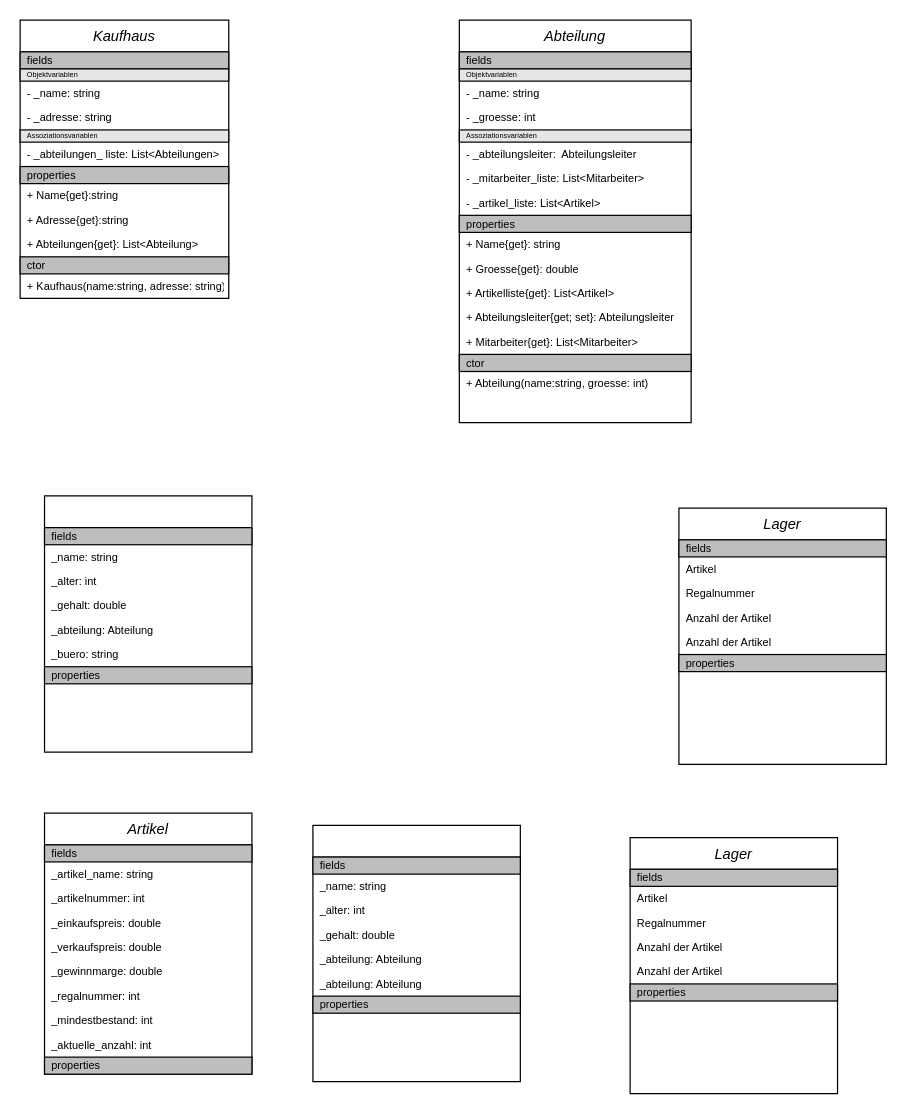
Some shapes in this 906 by 1114 pixel diagram are drawn without their labels. Each missing label, with the box of its shape:
Abteilungsleiter: (43, 495, 252, 752)
Angestellter: (312, 824, 520, 1082)
